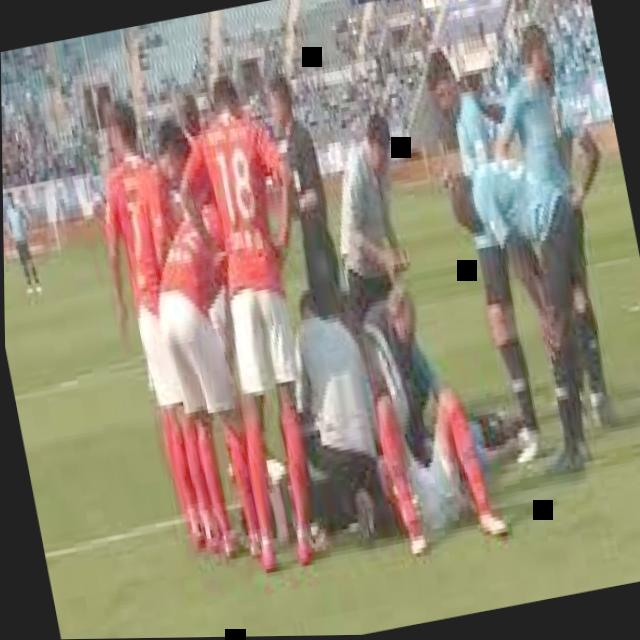Fall-Detected: (323, 316, 521, 552)
